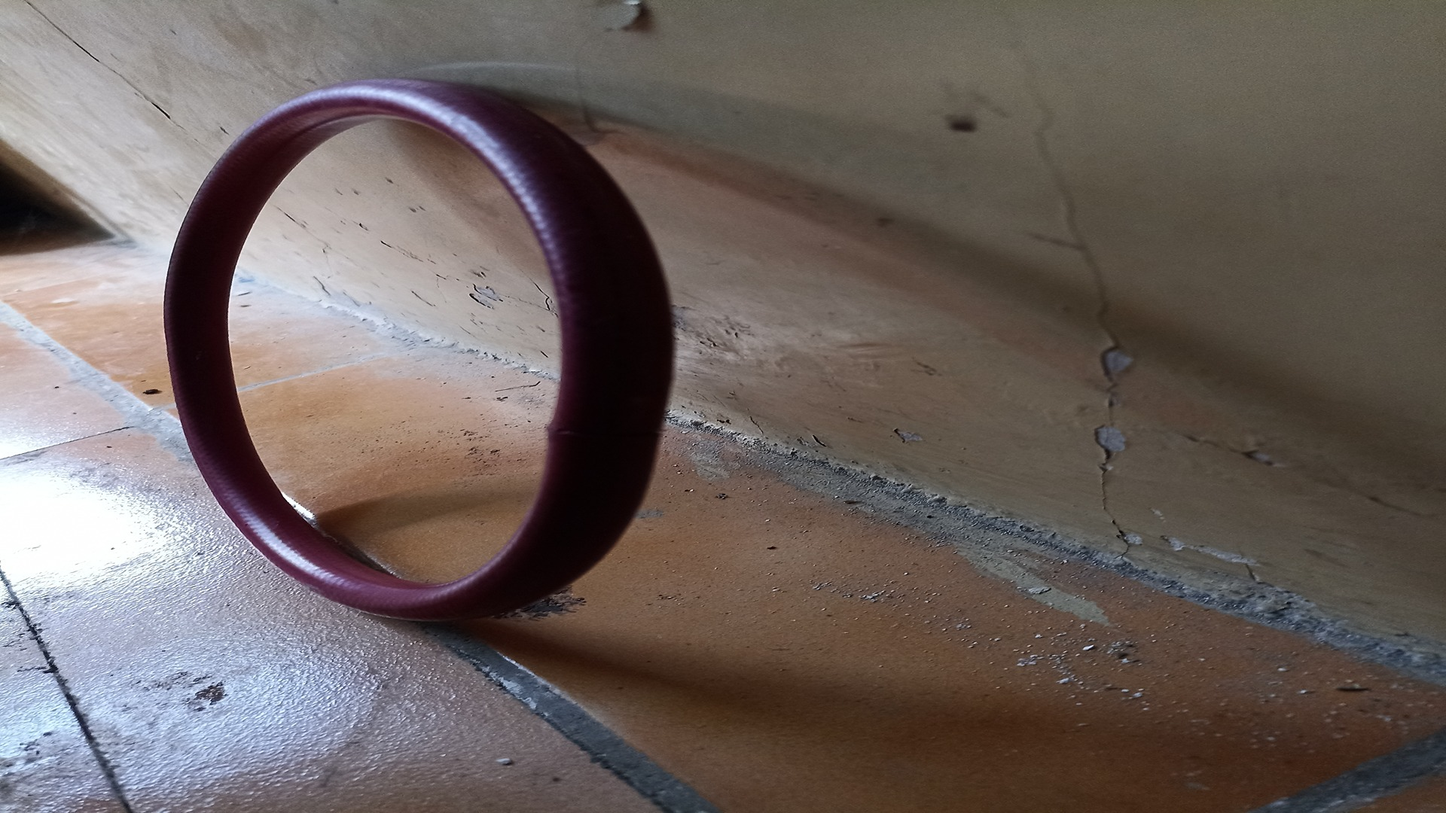Red ring: (161, 76, 642, 621)
